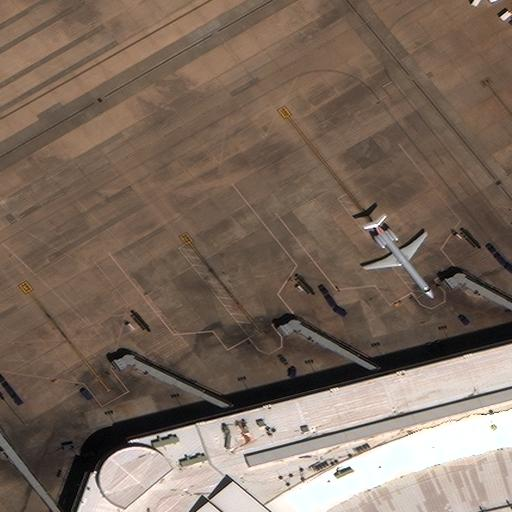Medium Civil Transport: (364, 218, 432, 297)
